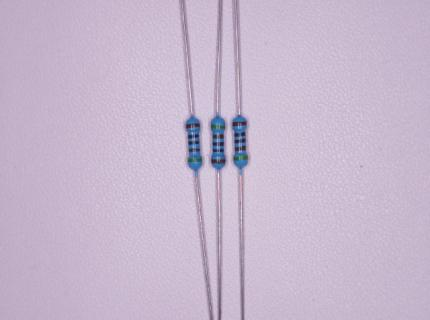Black band: (188, 134, 200, 139), (188, 140, 200, 145), (212, 141, 224, 146), (234, 132, 246, 137), (234, 138, 246, 143), (212, 149, 224, 153)
Brown band: (186, 123, 200, 129), (211, 159, 226, 164), (232, 121, 247, 126), (234, 145, 246, 151), (212, 134, 224, 139), (189, 148, 200, 153)
Green band: (233, 155, 248, 161), (210, 124, 225, 129), (187, 158, 202, 163)
